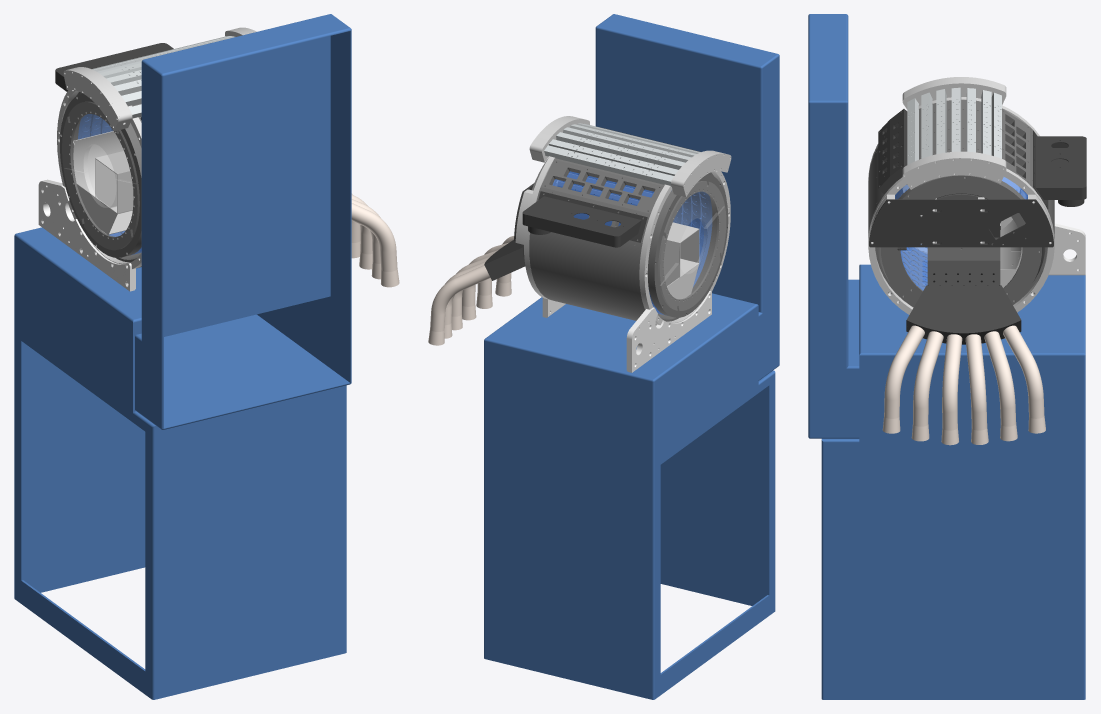
The picture shows the model from 3 angles, left to right: view 1: azimuth 30°, elevation 25°; view 2: azimuth 150°, elevation 25°; view 3: azimuth 270°, elevation 25°; orthographic projection. The views are drawn at different scales.
Visible parts, largest first — view 1: Main Frame-1, DSP Cabinet-1, 0260R3-1, SC1155R1-1, SC1231CR1-1, SC1009R3-1, SC1439R2-1, SC1128R2-1, SC1127R3-1, SC1006-1, SC1334R1-1, SC1001R5-1 (+2 smaller); view 2: Main Frame-1, DSP Cabinet-1, SC1001R5-1, 0260R3-1, SC1155R1-1, SC1127R3-1, SC1009R3-1, 0812R4-1, SC1231CR1-1, SC1006-1, SC1439R2-6, SC1007R3-1 (+10 smaller); view 3: Main Frame-1, DSP Cabinet-1, SC1122C-1, SC1001R5-1, SC1228BR4-1, SC1004-1, SC1127R3-1, SC1139C-1, SC1006-2, SC1130R4-1, SC1337-1, SC1439R2-1 (+21 smaller).
Part boxes in pixels (x1=…): Main Frame-1: x1=14, y1=227, x2=346, y2=699; DSP Cabinet-1: x1=135, y1=14, x2=351, y2=429; 0260R3-1: x1=62, y1=102, x2=139, y2=249; SC1155R1-1: x1=60, y1=93, x2=141, y2=257; SC1231CR1-1: x1=72, y1=131, x2=133, y2=234; SC1009R3-1: x1=38, y1=179, x2=135, y2=291; SC1439R2-1: x1=351, y1=203, x2=399, y2=287; SC1128R2-1: x1=63, y1=70, x2=120, y2=131; SC1127R3-1: x1=55, y1=43, x2=173, y2=91; SC1006-1: x1=57, y1=90, x2=141, y2=269; SC1334R1-1: x1=67, y1=67, x2=132, y2=130; SC1001R5-1: x1=76, y1=92, x2=141, y2=267; Main Frame-1: x1=484, y1=293, x2=775, y2=699; DSP Cabinet-1: x1=595, y1=14, x2=779, y2=380; SC1001R5-1: x1=529, y1=157, x2=713, y2=325; 0260R3-1: x1=659, y1=181, x2=725, y2=310; SC1155R1-1: x1=647, y1=174, x2=728, y2=317; SC1127R3-1: x1=522, y1=191, x2=647, y2=247; SC1009R3-1: x1=626, y1=291, x2=711, y2=372; 0812R4-1: x1=552, y1=171, x2=712, y2=314; SC1231CR1-1: x1=663, y1=222, x2=699, y2=299; SC1006-1: x1=639, y1=170, x2=730, y2=325; SC1439R2-6: x1=428, y1=265, x2=490, y2=345; SC1007R3-1: x1=544, y1=145, x2=673, y2=186; Main Frame-1: x1=821, y1=264, x2=1085, y2=699; DSP Cabinet-1: x1=808, y1=14, x2=859, y2=438; SC1122C-1: x1=869, y1=199, x2=1053, y2=250; SC1001R5-1: x1=868, y1=99, x2=1054, y2=305; SC1228BR4-1: x1=906, y1=285, x2=1021, y2=338; SC1004-1: x1=880, y1=175, x2=1041, y2=307; SC1127R3-1: x1=1033, y1=130, x2=1086, y2=208; SC1139C-1: x1=902, y1=194, x2=1020, y2=289; SC1006-2: x1=868, y1=168, x2=1054, y2=314; SC1130R4-1: x1=878, y1=109, x2=907, y2=194; SC1337-1: x1=902, y1=157, x2=1006, y2=189; SC1439R2-1: x1=882, y1=325, x2=924, y2=433.
Size of the model in its own units: 0.9132 by 1.89 by 0.7964.
